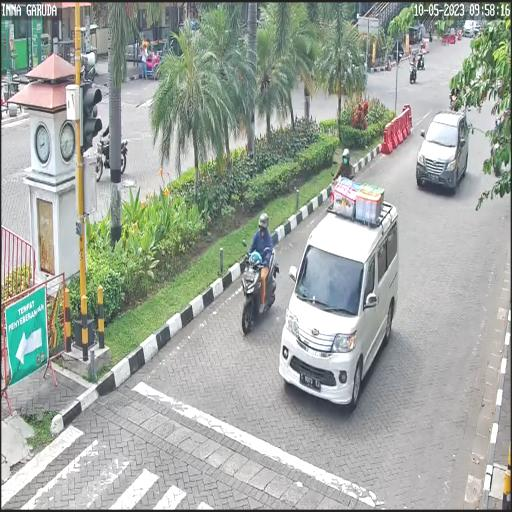mobil: (278, 176, 399, 416), (415, 110, 469, 199)
motor: (240, 241, 278, 334)
